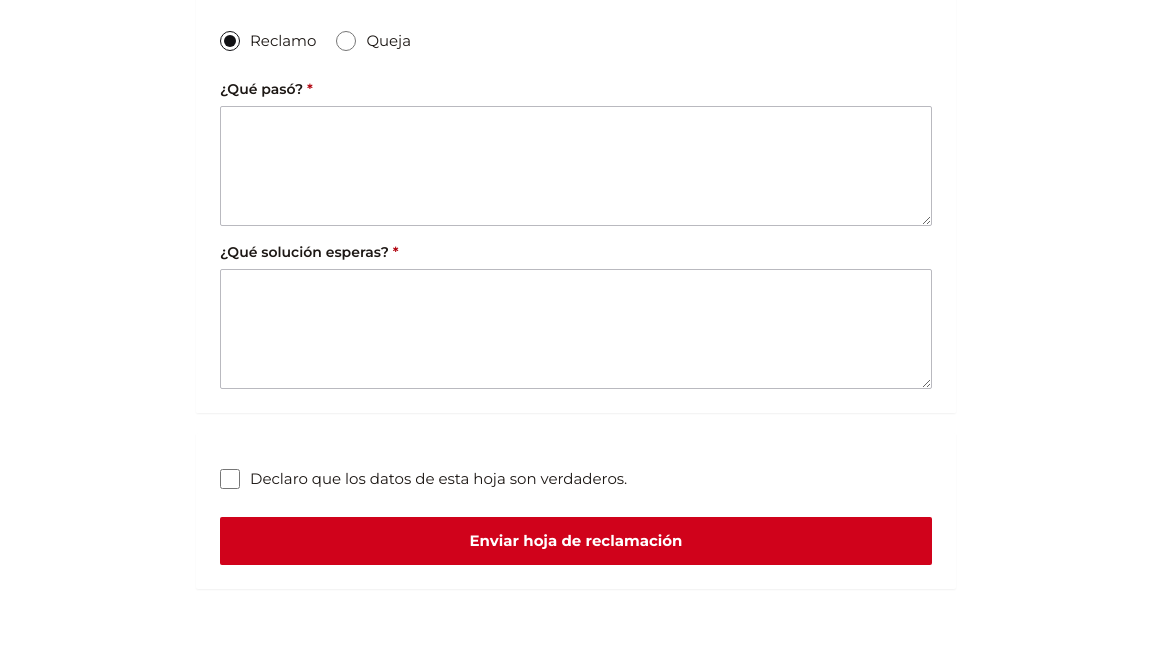
Test: LibroReclamacionesPage › marca los campos obligatorios, avisa y lleva el foco al primero
The width and height of the screenshot is (1152, 655).
(page scrolled)
Click the button "Enviar hoja de reclamación" at (576, 541), box [220,517,932,565]
(page scrolled)
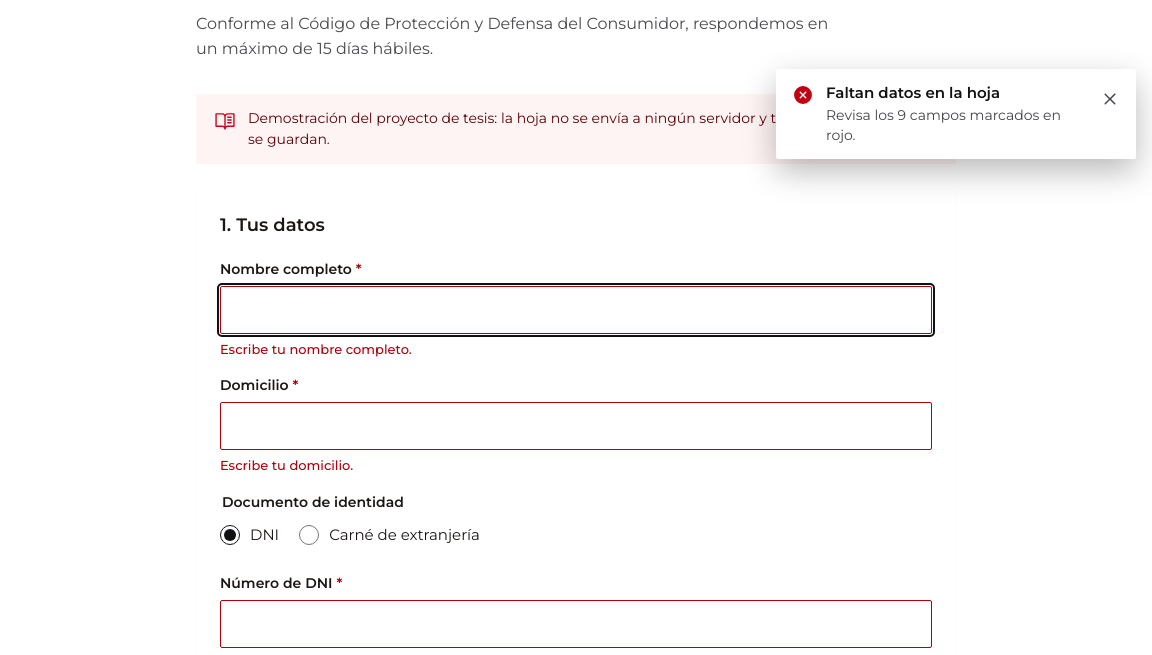
Expected: the text "Faltan datos en la hoja" is shown, [826,83,1000,102]
Expected: the text "Revisa los 9 campos marcados en rojo." is shown, [826,105,1090,146]
